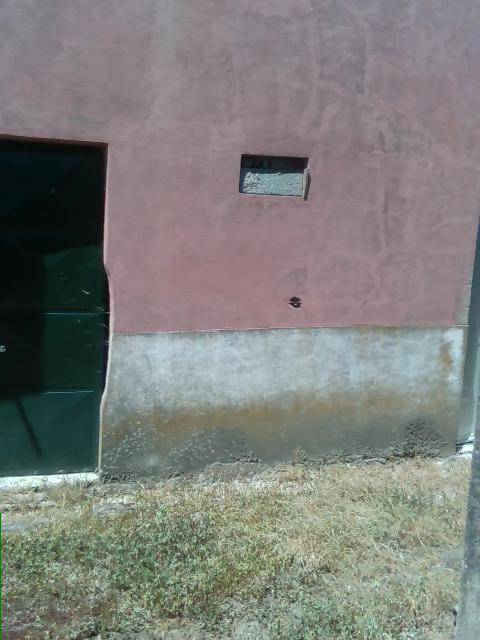door: (0, 133, 103, 481)
